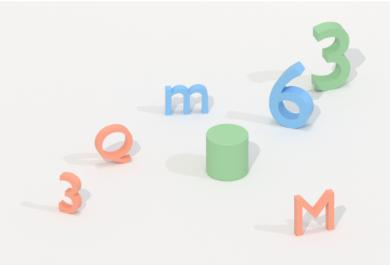0-KhoiTru: (203, 120, 253, 186)
3: (308, 18, 359, 94), (53, 169, 86, 216)
6: (265, 56, 315, 137)
M: (289, 185, 339, 240)
Q: (91, 120, 135, 167)
m: (159, 77, 213, 122)
